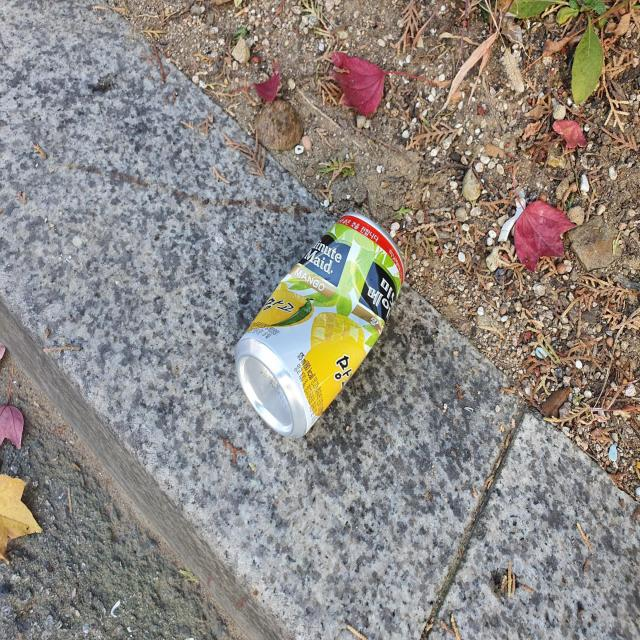can: (235, 212, 404, 438)
